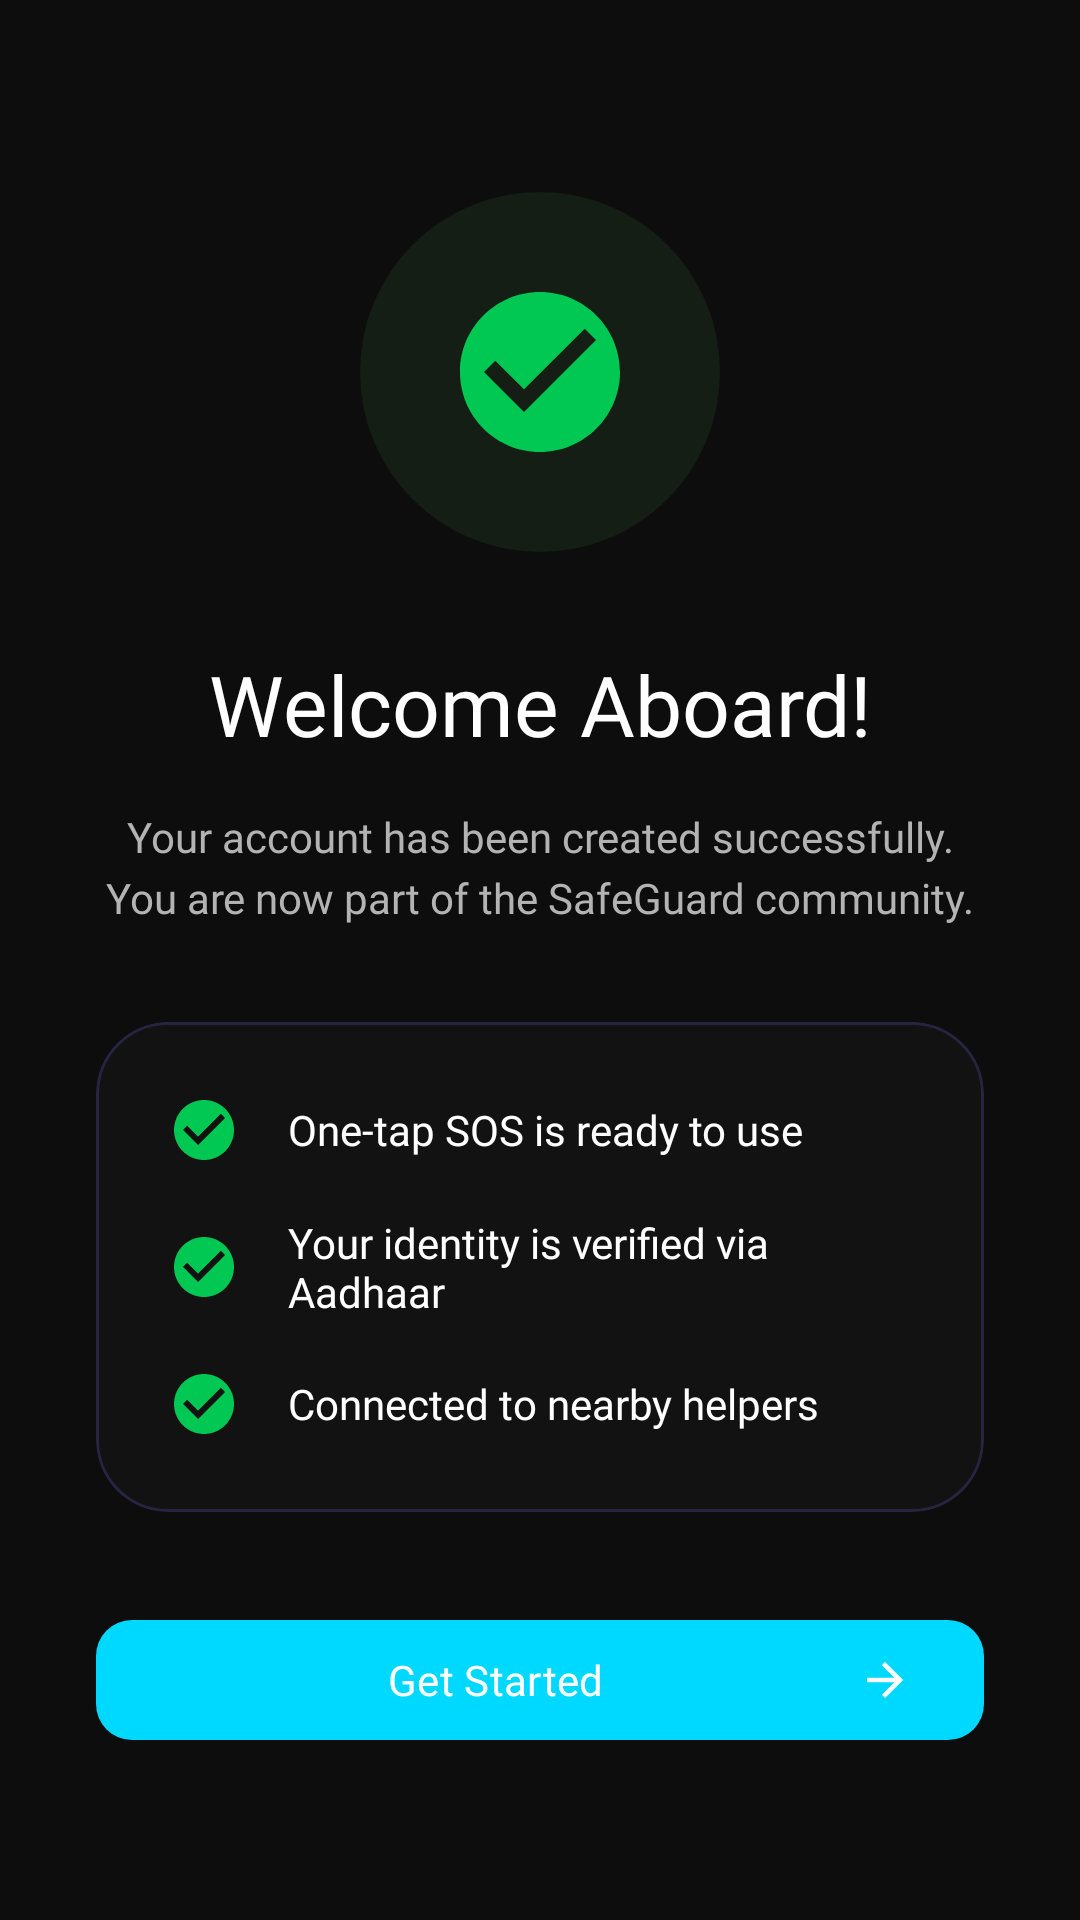

Screen size 1080 × 1920. Icon name, then its box in pixels as (x1, y1, x2, y2):
check circle: (460, 292, 620, 452), (174, 1100, 234, 1160), (174, 1237, 234, 1297), (174, 1374, 234, 1434)
